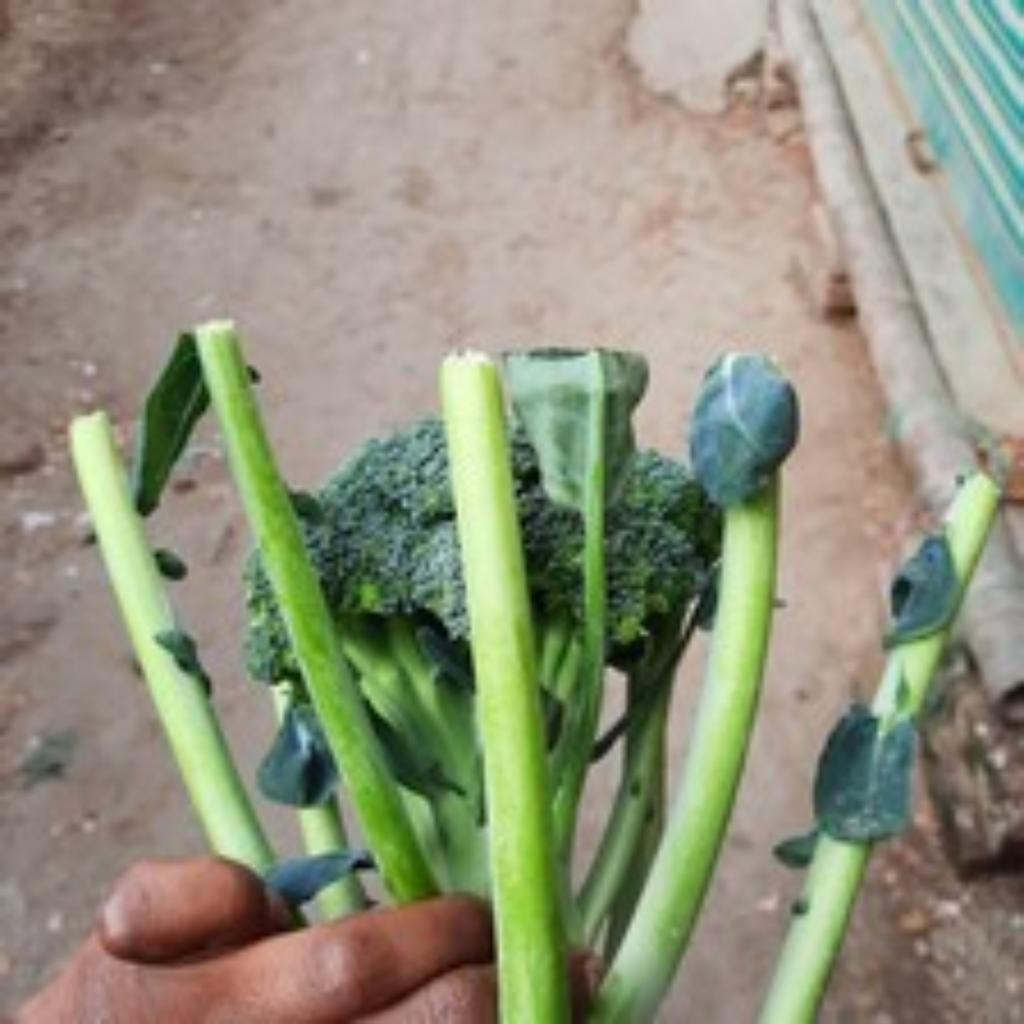Broccoli: (294, 418, 464, 640), (248, 558, 296, 681)
